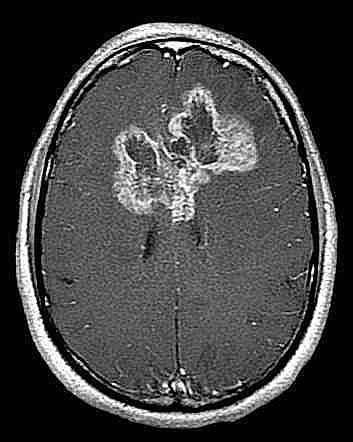Tumor: (108, 80, 260, 220)
